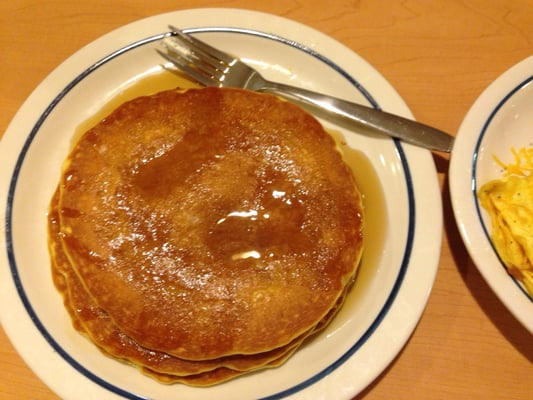burger: (156, 26, 457, 158)
sushi: (474, 55, 533, 316)
